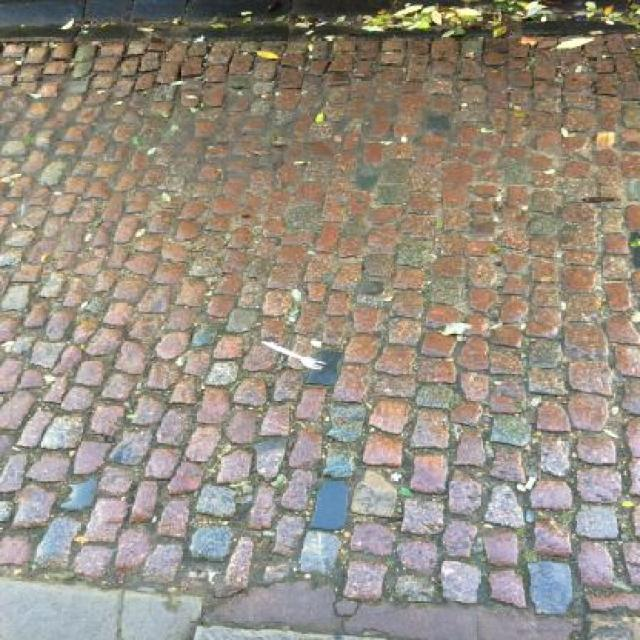plastic: (260, 340, 328, 371)
